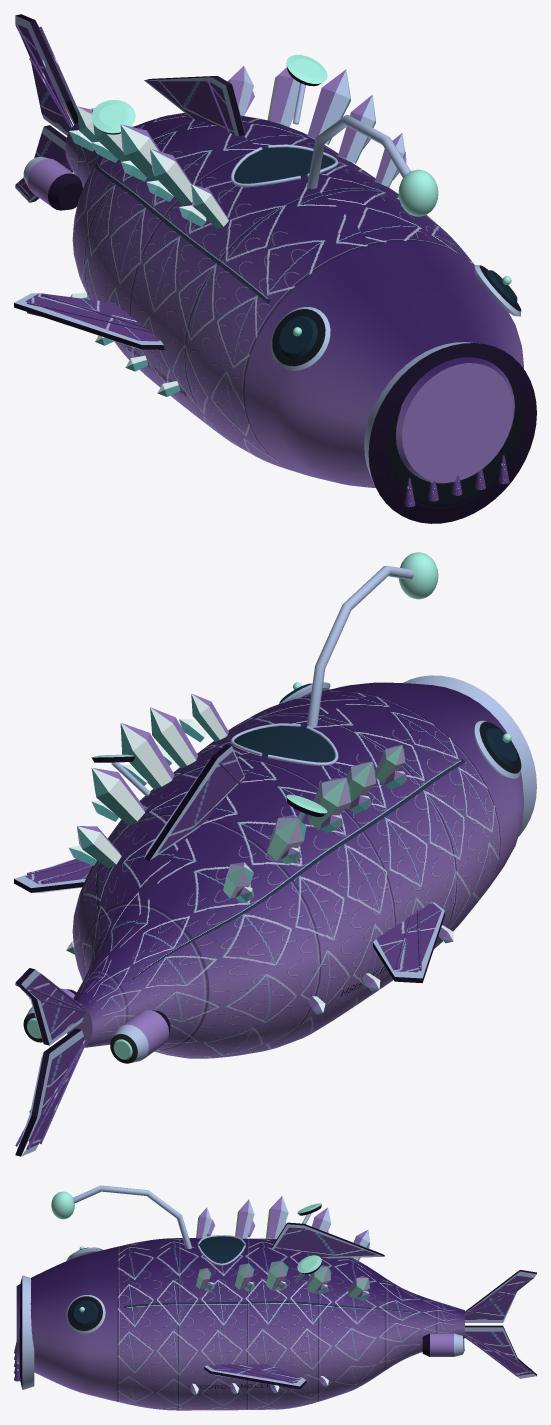
The picture shows the model from 3 angles, top to bottom: view 1: azimuth 30°, elevation 25°; view 2: azimuth 150°, elevation 25°; view 3: azimuth 270°, elevation 25°; orthographic projection. The views are drawn at different scales.
Parts seen in each view (by area): view 1: anglerfish_hull; view 2: anglerfish_hull; view 3: anglerfish_hull.
Part boxes in pixels (box(x1,y1,x2,y2)): anglerfish_hull: box(14, 14, 536, 523); anglerfish_hull: box(14, 552, 536, 1156); anglerfish_hull: box(14, 1185, 536, 1410).
Size of the model in its own units: 9.08 by 7.72 by 17.
Materials: 1 (1 with a texture image).
